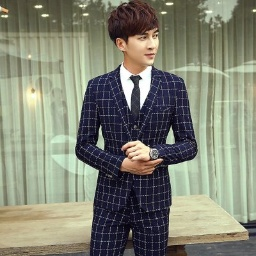face: (108, 1, 161, 67)
